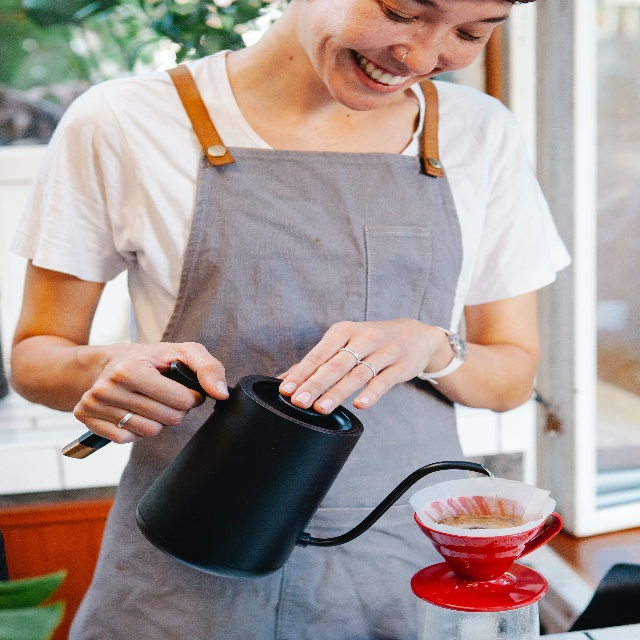Sin_guantes: (72, 340, 229, 445), (275, 316, 429, 416)
